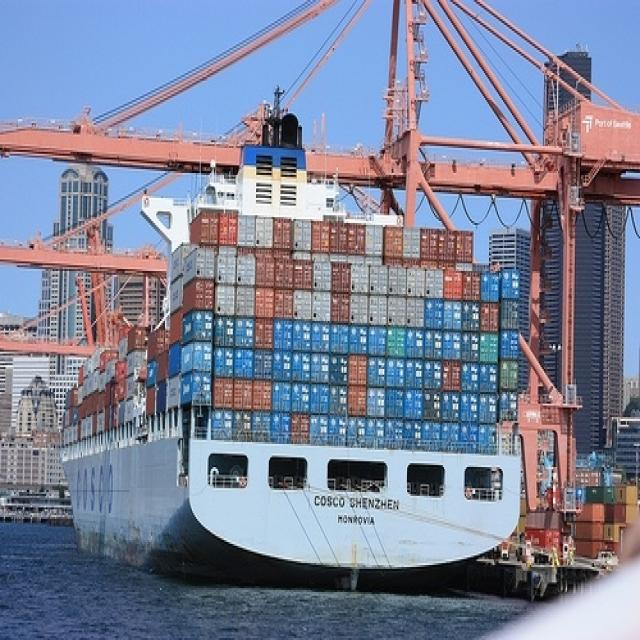container_door: (255, 286, 273, 317), (293, 219, 310, 250), (388, 296, 406, 325), (214, 348, 233, 375), (348, 356, 366, 384), (293, 290, 310, 319)
